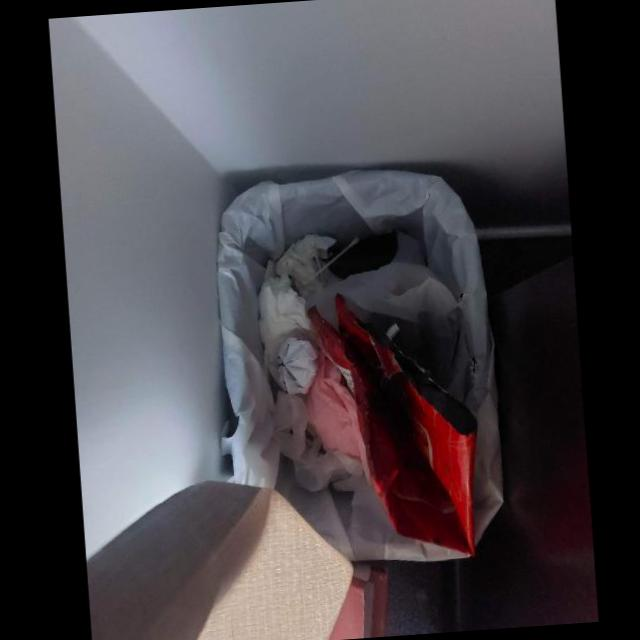bao_bi_thuc_pham: (306, 294, 477, 556)
giay: (257, 260, 321, 395)
